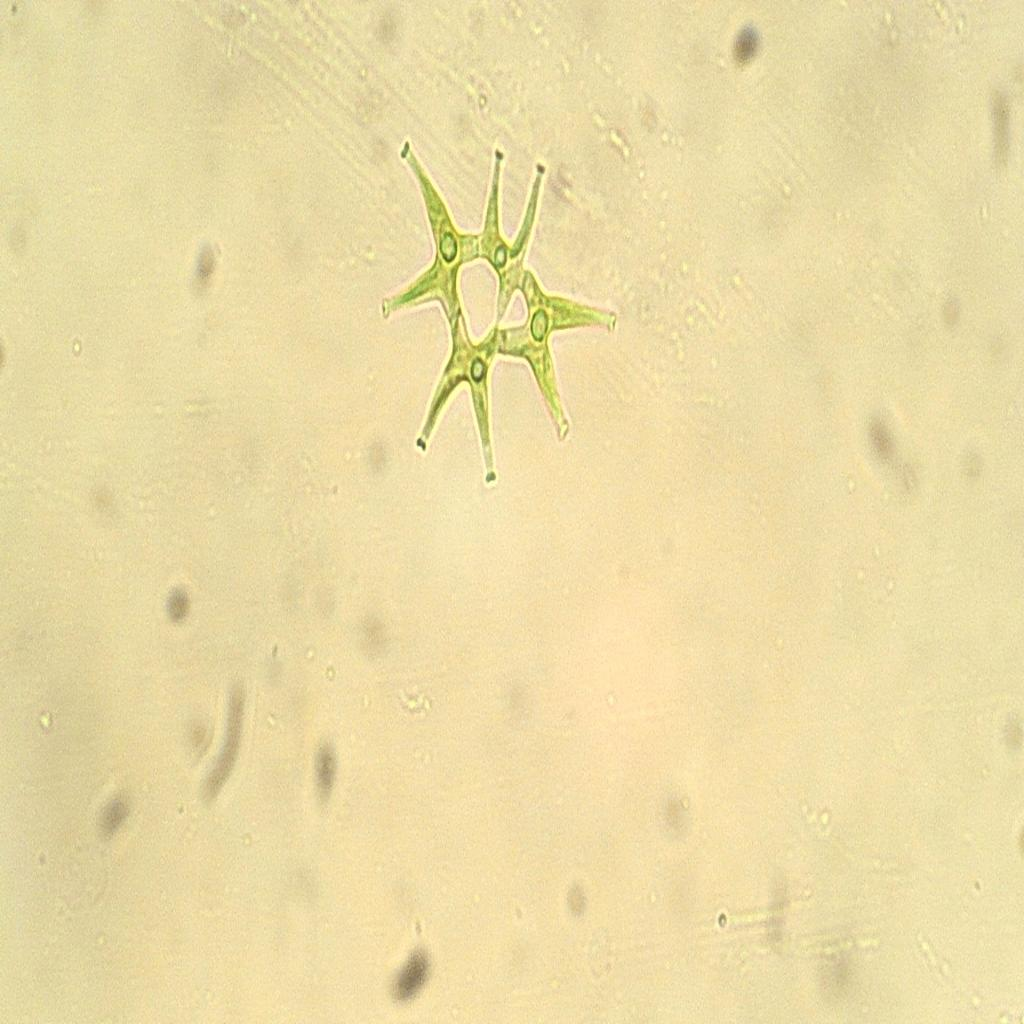Pediastrum_75FO: (360, 108, 630, 510)
